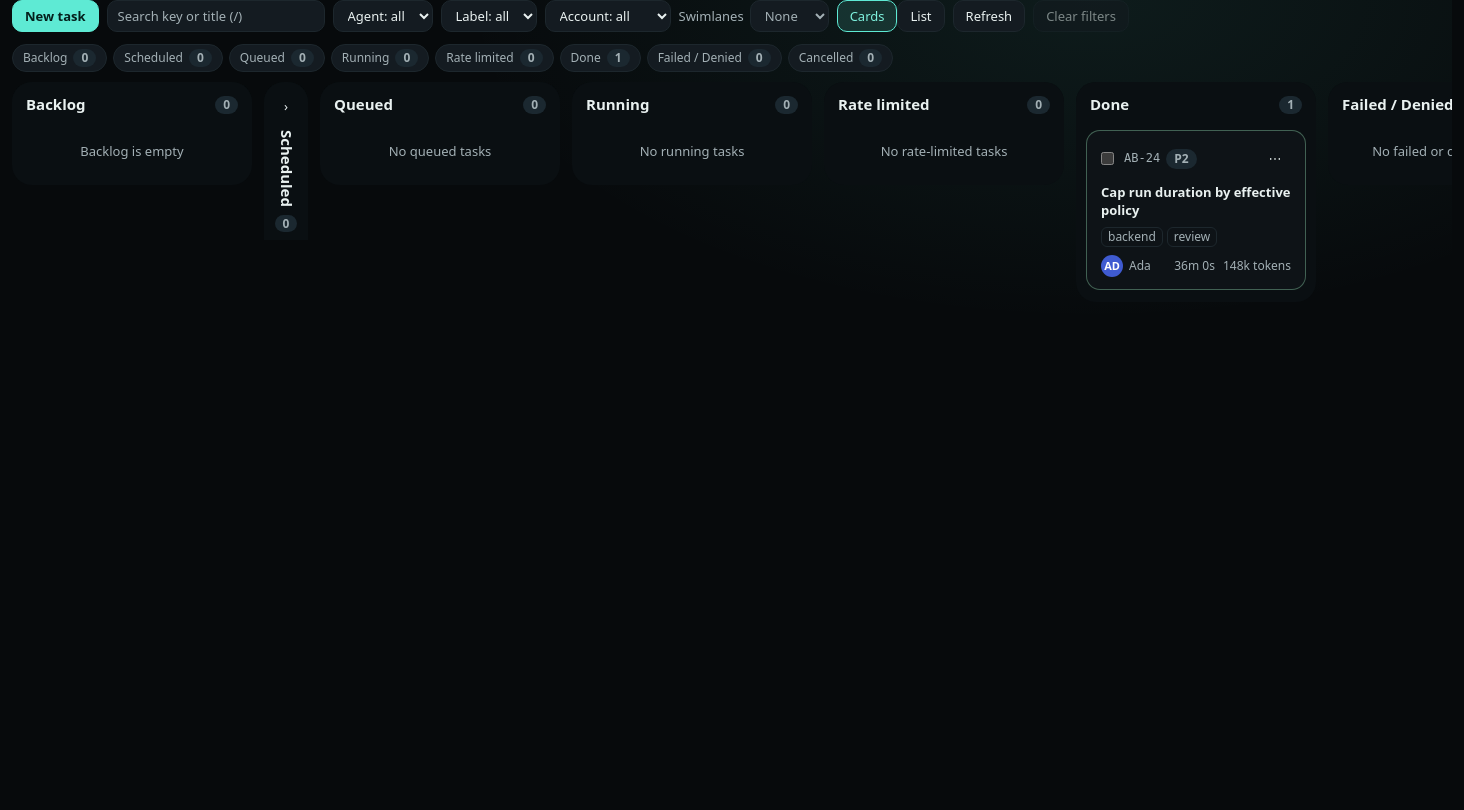
Test case: Run finished tasks again › offers rerun and duplicate in the menu and details, and lists history
The image size is (1464, 810).
expect the element "AB-24 " is shown: met, box [1086,130,1306,290]
Click the button named "Actions for AB-24": coordinates (1275, 159) [1259,143,1291,175]
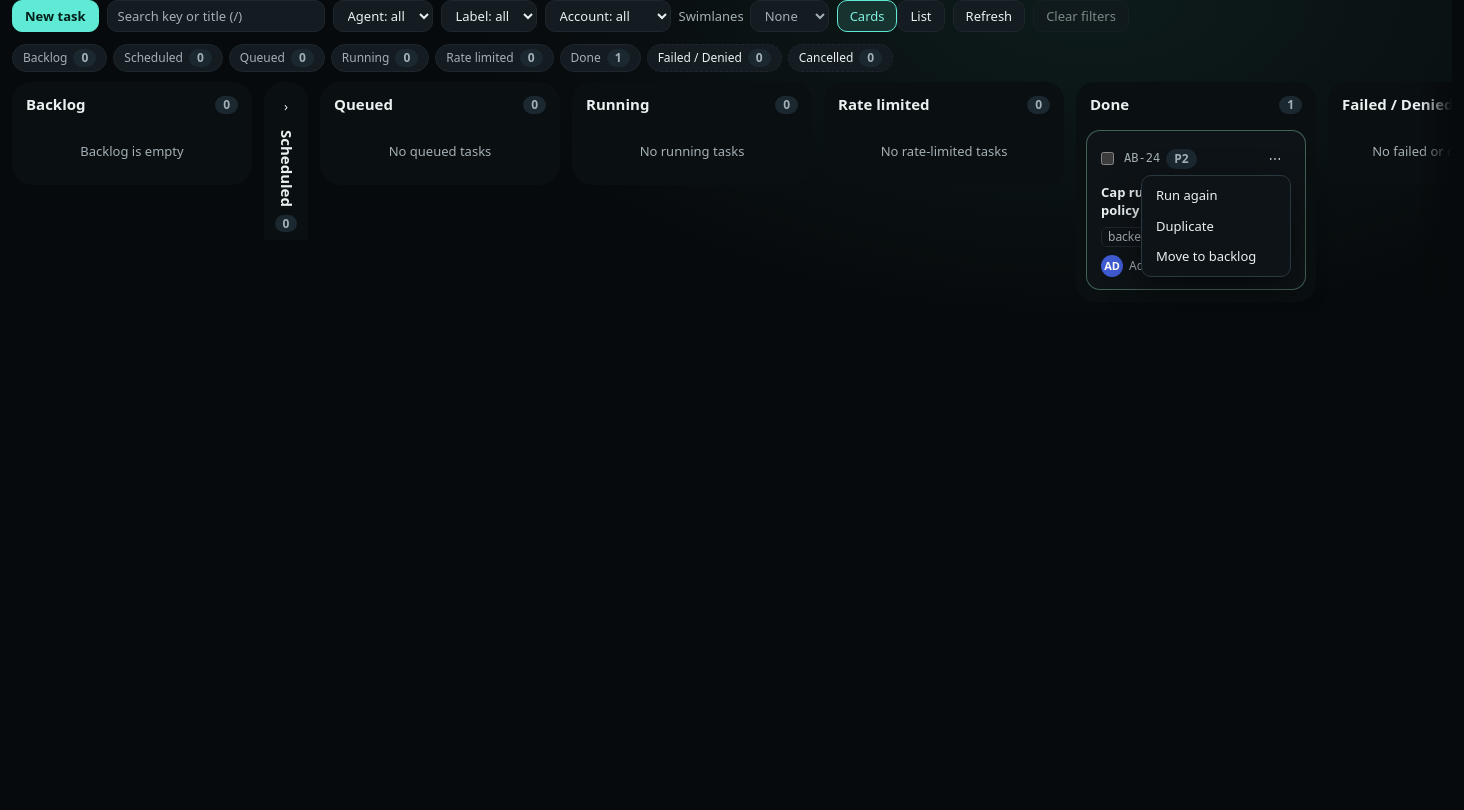
expect the menu item "Run again" is shown: met, box [1146,180,1286,211]
Click the menu item "Duplicate": coordinates (1216, 226) [1146,211,1286,241]
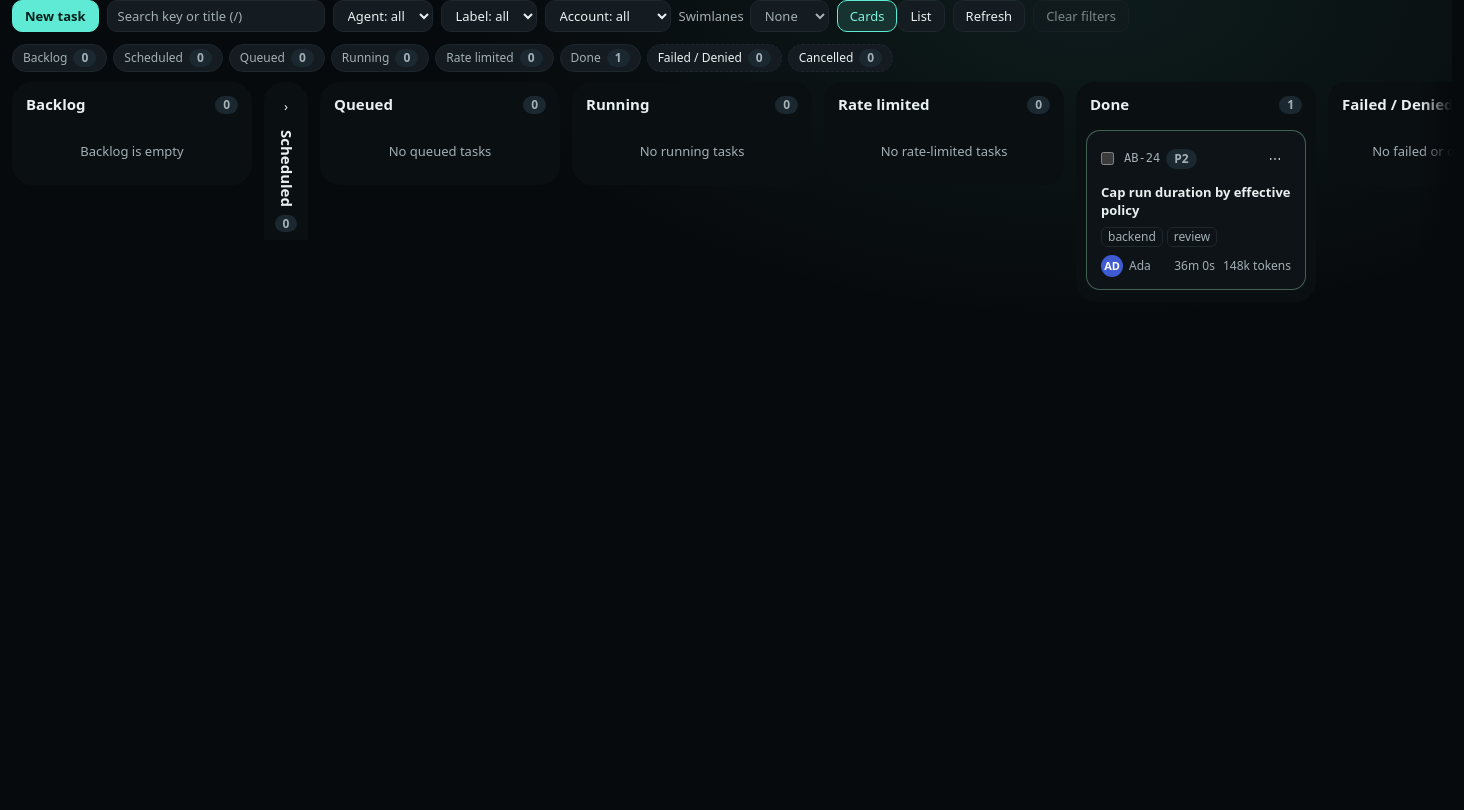
Click the element "AB-24 ": coordinates (1196, 210) [1086,130,1306,290]
(page scrolled)
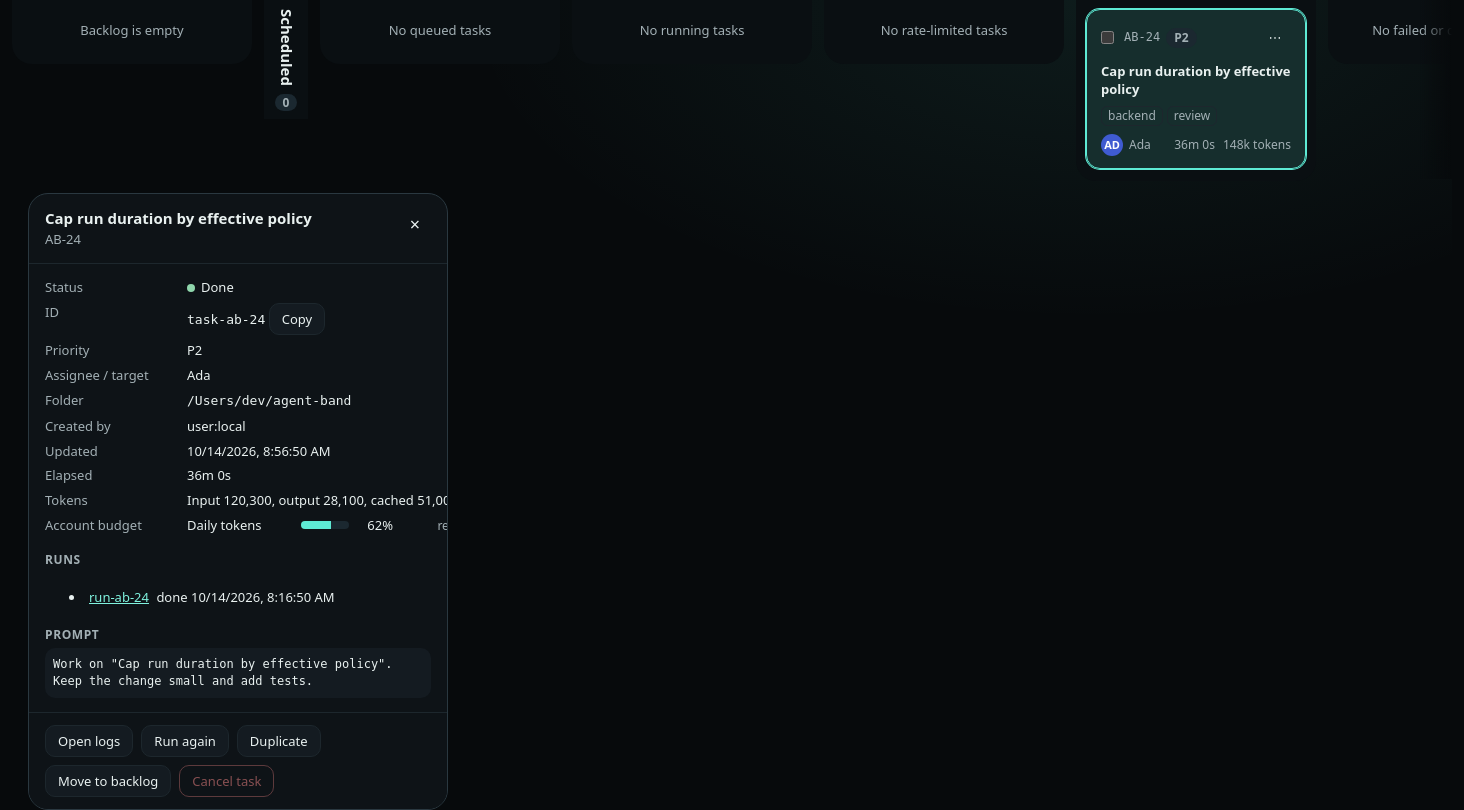
expect the button "Run again" is shown: met, box [141,726,229,758]
expect the button "Duplicate" is shown: met, box [237,726,321,758]
expect the button "Move to backlog" is shown: met, box [45,766,171,798]
